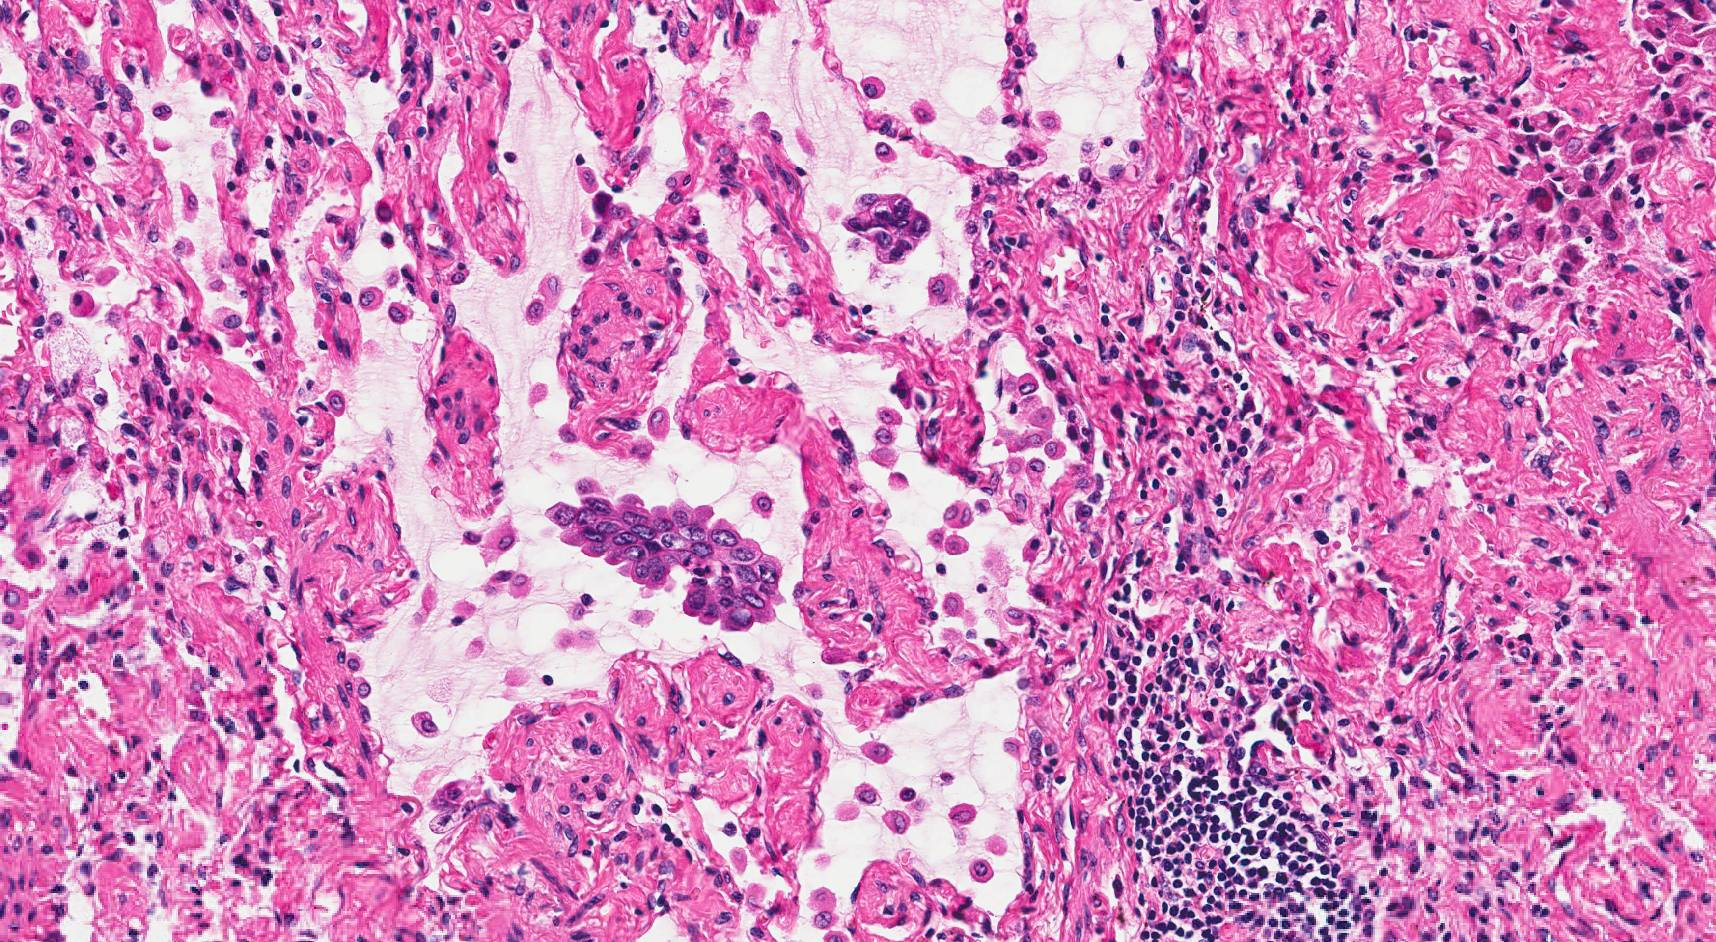stas: (544, 477, 793, 637), (840, 185, 932, 268)
